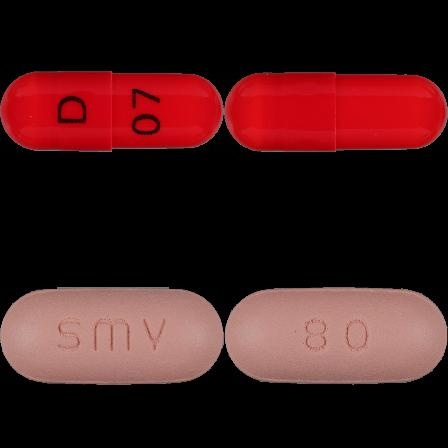50090-1118: (0, 0, 224, 224)
